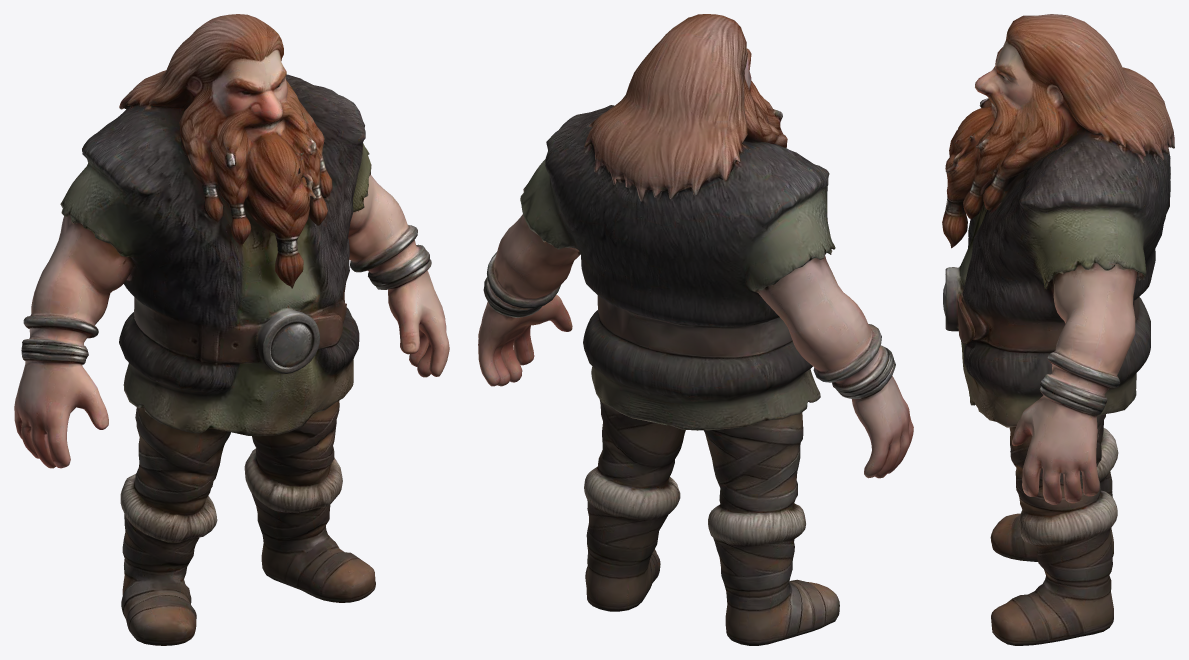
Rendered from viking.glb.
3 renders of one model, left to right at view 1: azimuth 30°, elevation 25°; view 2: azimuth 150°, elevation 25°; view 3: azimuth 270°, elevation 25°, orthographic.
Visible parts, largest first — view 1: tripo_node_b8e12265-6a93-42f2-b79c-866f4359906a; view 2: tripo_node_b8e12265-6a93-42f2-b79c-866f4359906a; view 3: tripo_node_b8e12265-6a93-42f2-b79c-866f4359906a.
Part boxes in pixels (x1,y1,x2,y2): tripo_node_b8e12265-6a93-42f2-b79c-866f4359906a: (14,14,449,645); tripo_node_b8e12265-6a93-42f2-b79c-866f4359906a: (478,14,913,645); tripo_node_b8e12265-6a93-42f2-b79c-866f4359906a: (942,14,1174,645).
Bounding box in the file's own units: 0.7276 × 0.9783 × 0.3599.
1 material, 1 textured.
